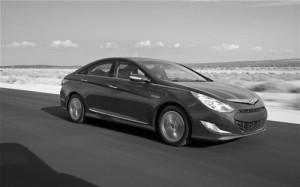car: (61, 58, 269, 148)
